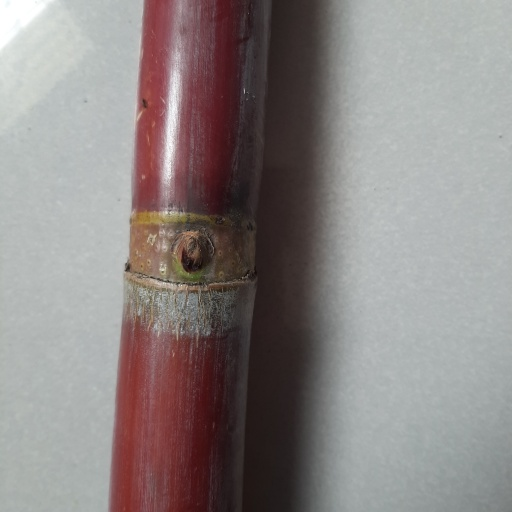Bud: (181, 232, 210, 273)
